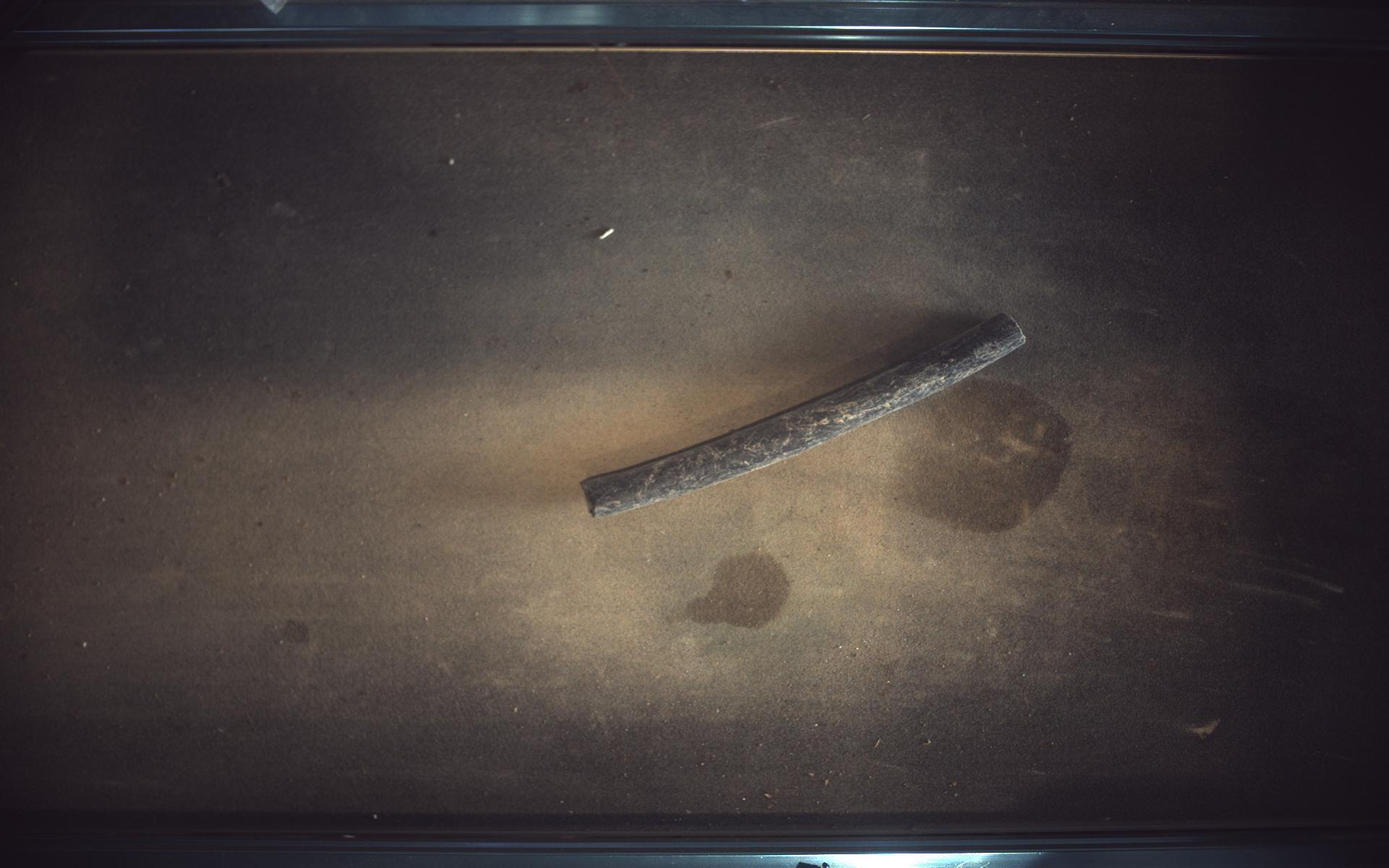pipes: (582, 313, 1027, 518)
